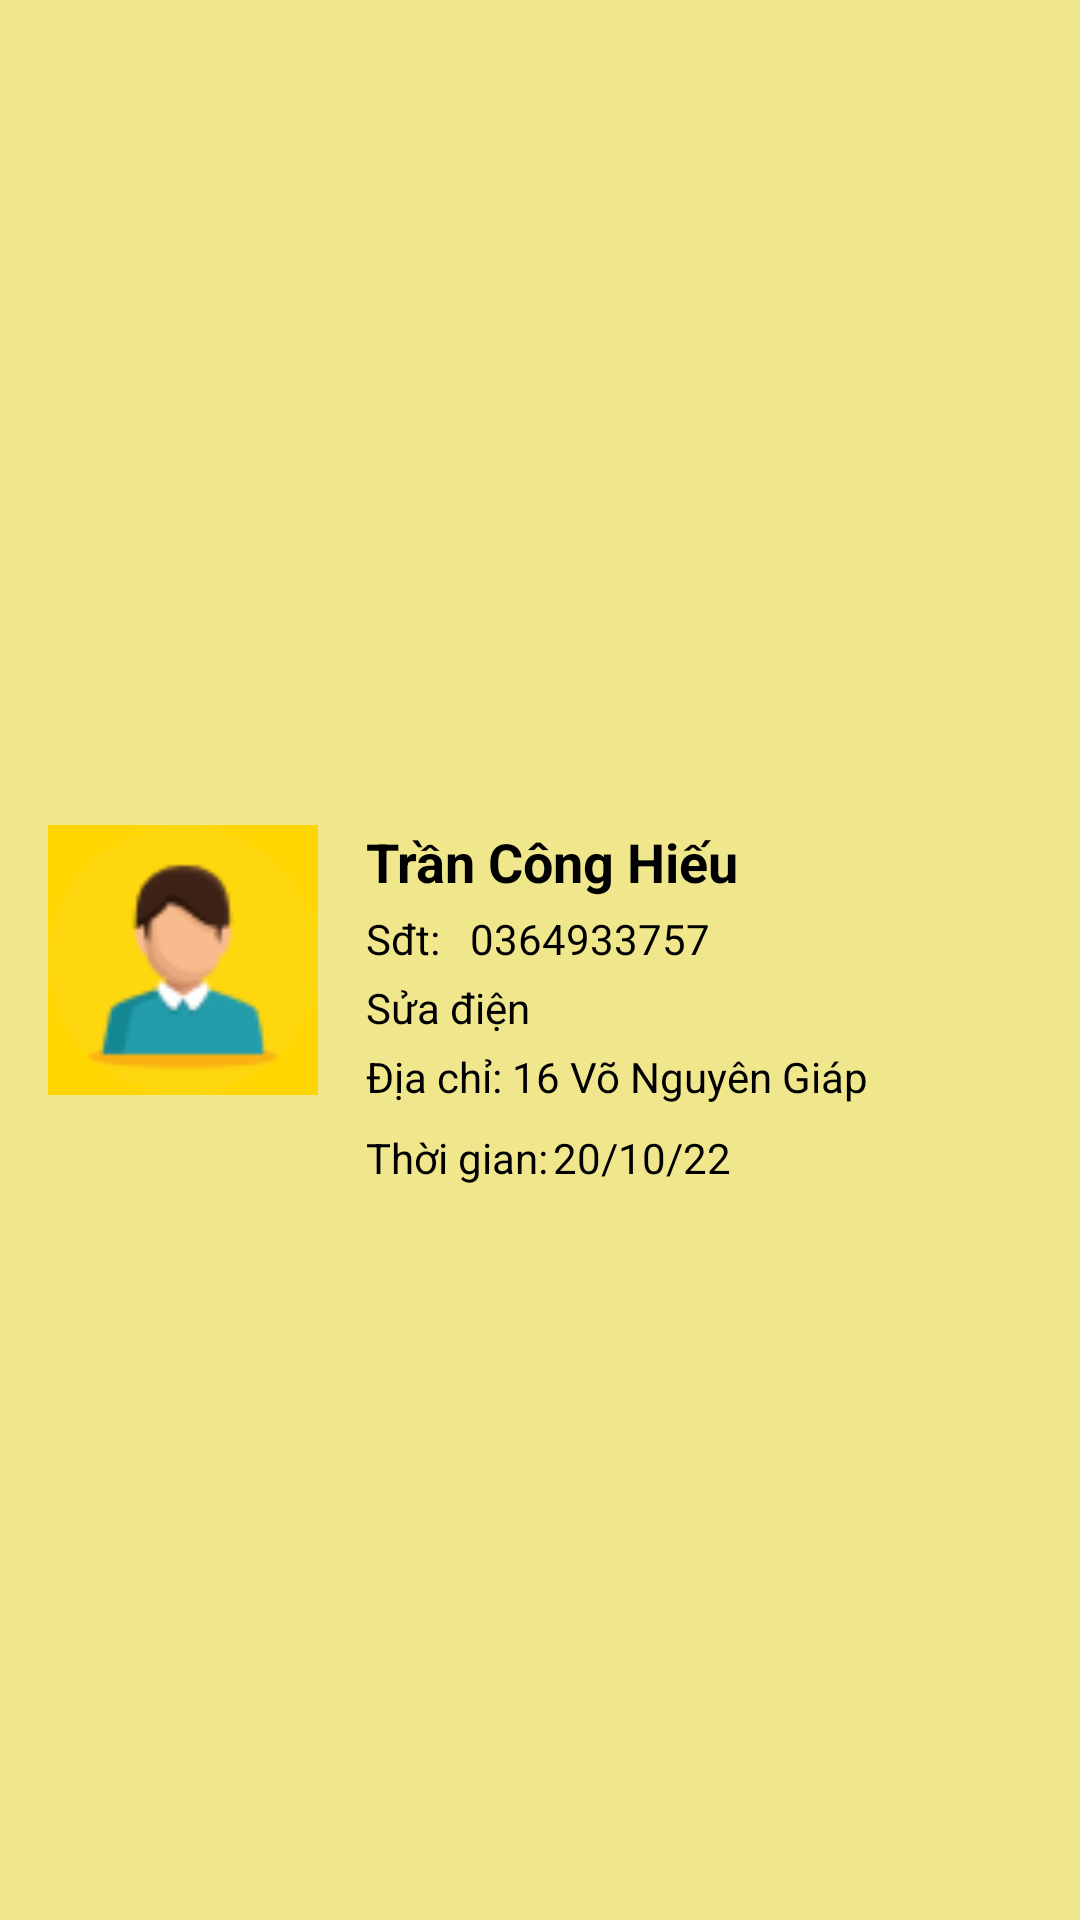

Named icons in this screenshot (1080 x 1920) and their bounding boxes, (x1, y1, x2, y2):
user: (48, 825, 318, 1095)
